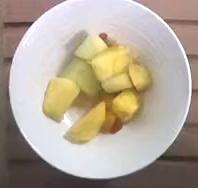fruit: (43, 32, 149, 142)
